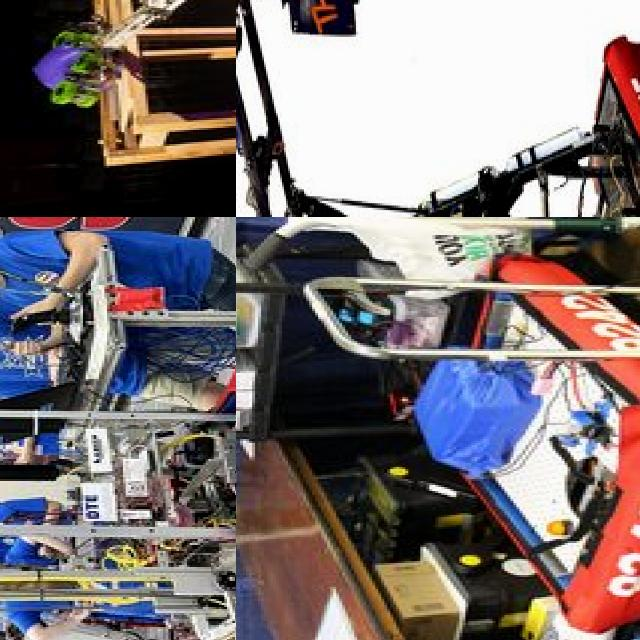FRC-Robots: (403, 246, 640, 640), (236, 0, 640, 217), (0, 343, 236, 640), (28, 0, 236, 122)
